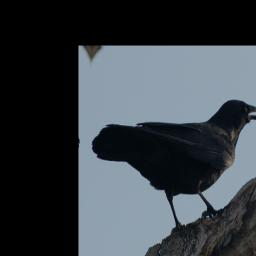Crow: (86, 80, 256, 245)
